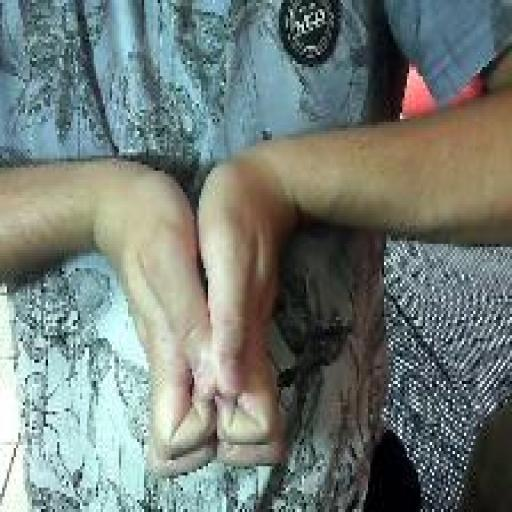I -boar-: (100, 151, 300, 483)
